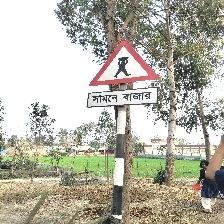Market-in-front: (87, 39, 161, 109)
